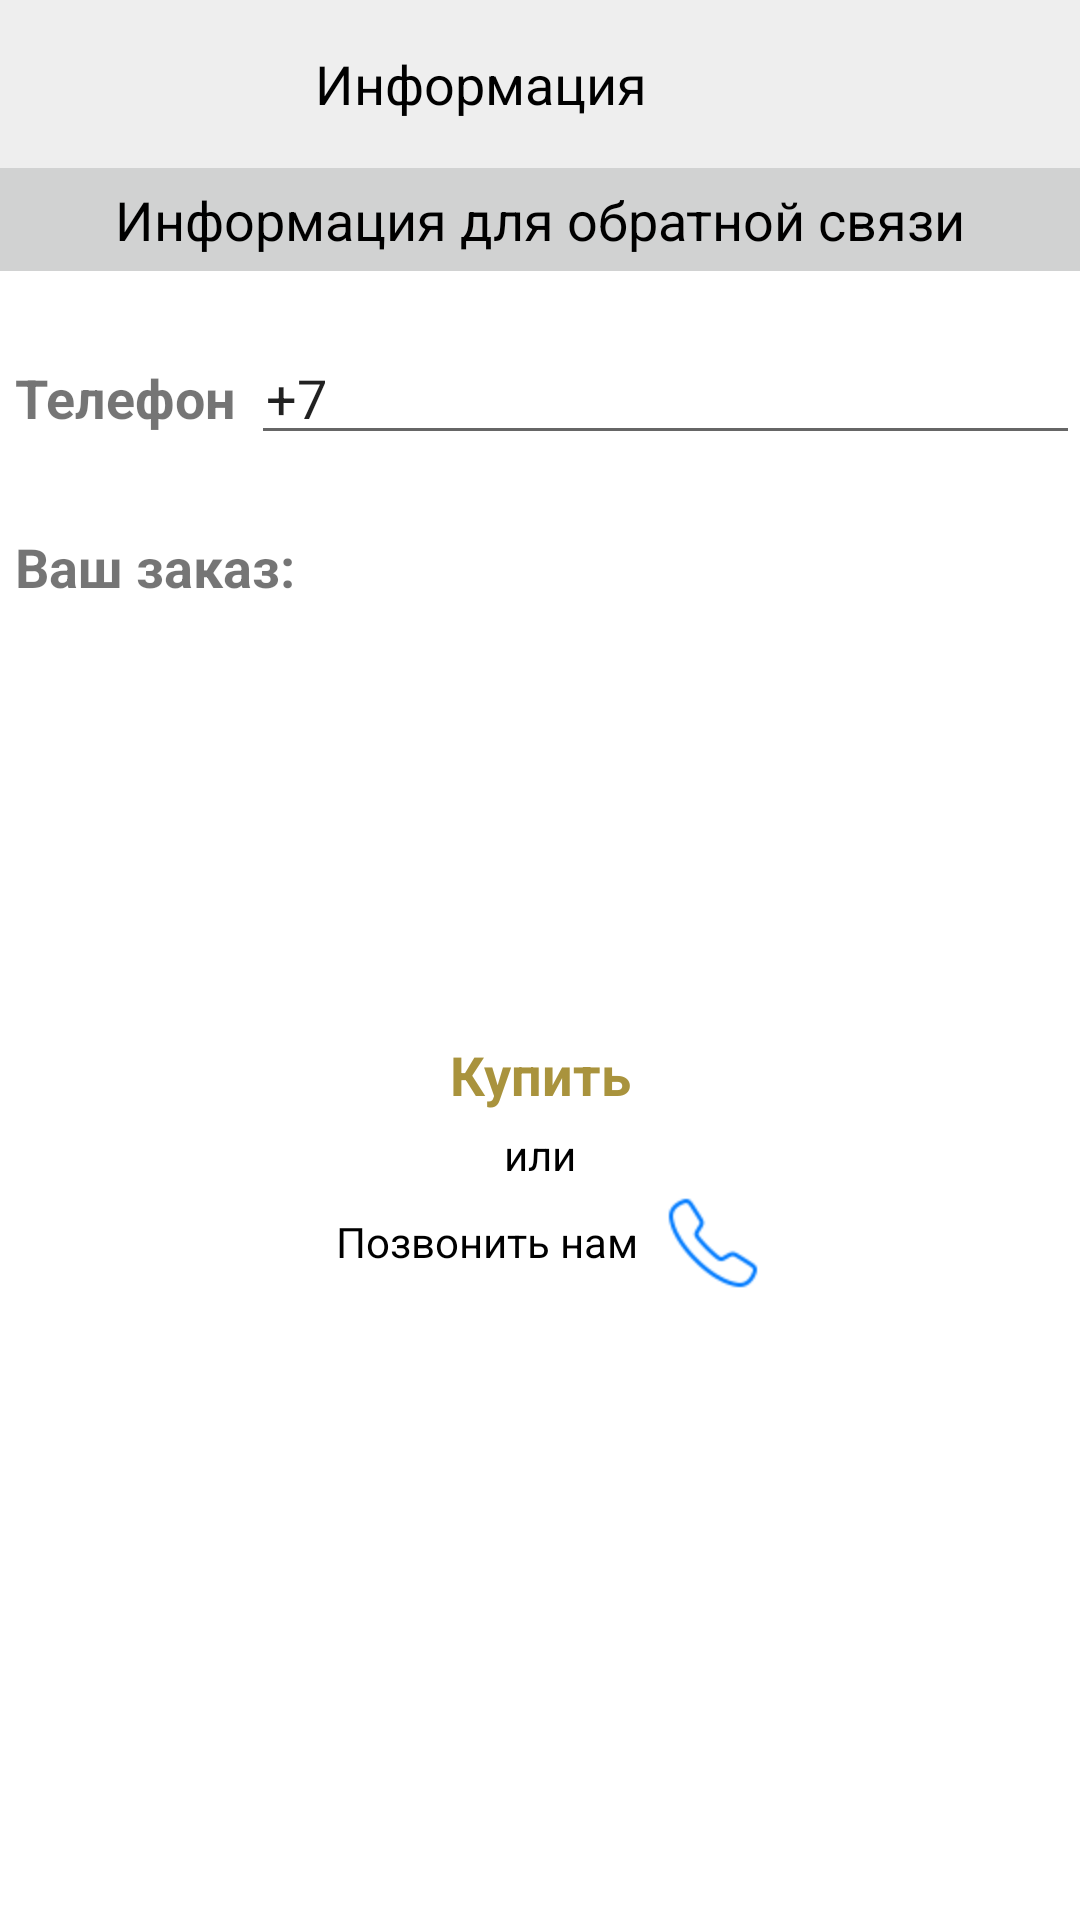

Named icons in this screenshot (1080*1920) and their bounding boxes, [x1,y1,x2,y2]:
tel: [668,1198,758,1288]
